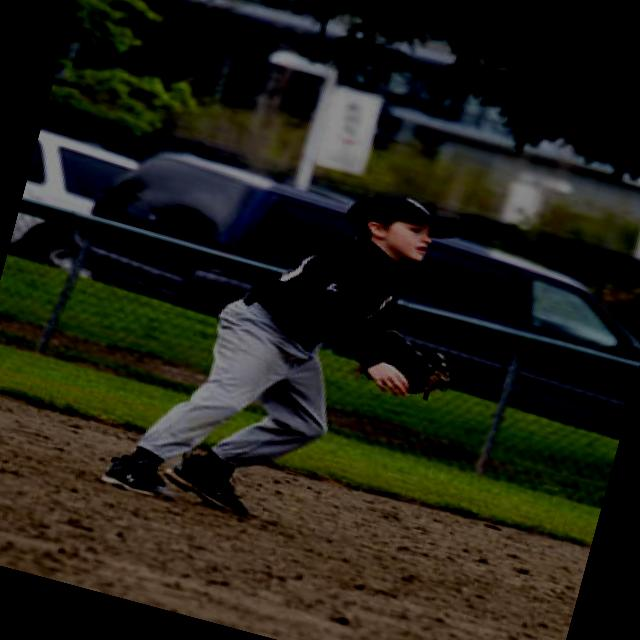Vehicle: (66, 130, 640, 438), (6, 130, 122, 280)
